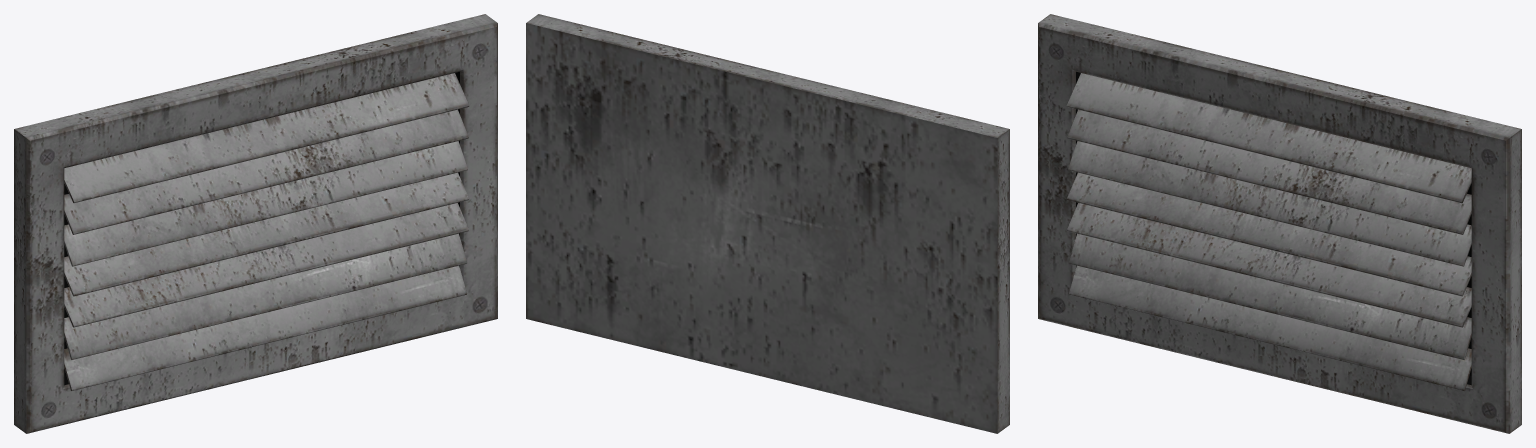
File: vent03.FBX
3 views of the same model, side by side, from view 1: azimuth 30°, elevation 25°; view 2: azimuth 150°, elevation 25°; view 3: azimuth 330°, elevation 25° (orthographic).
Parts seen in each view (by area): view 1: SM_Vent03; view 2: SM_Vent03; view 3: SM_Vent03.
Part boxes in pixels (x1,y1,x2,y2): SM_Vent03: (14, 14, 497, 433); SM_Vent03: (526, 14, 1009, 433); SM_Vent03: (1038, 14, 1521, 433).
Size of the model in its own units: 50 by 30 by 4.04.
Materials: 1 (1 with a texture image).
